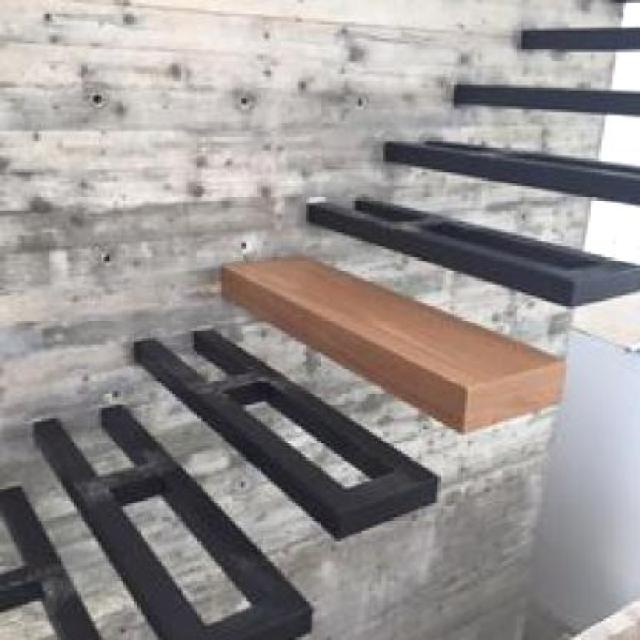stair: (5, 5, 638, 638)
